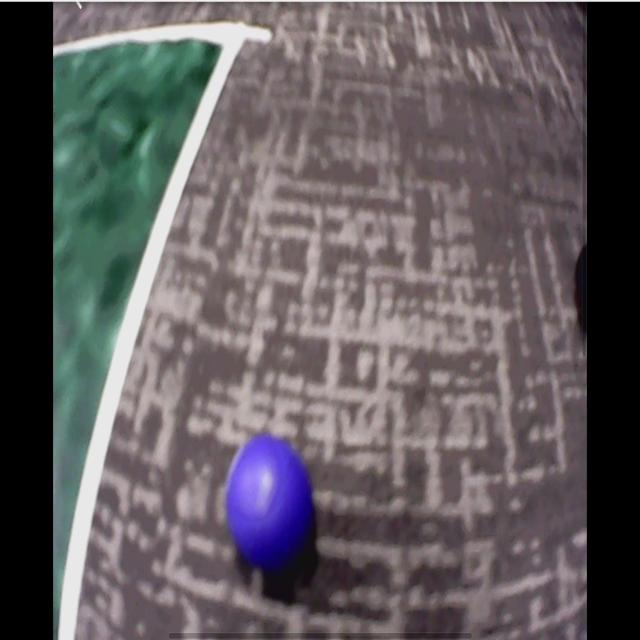ball: (227, 433, 314, 570)
